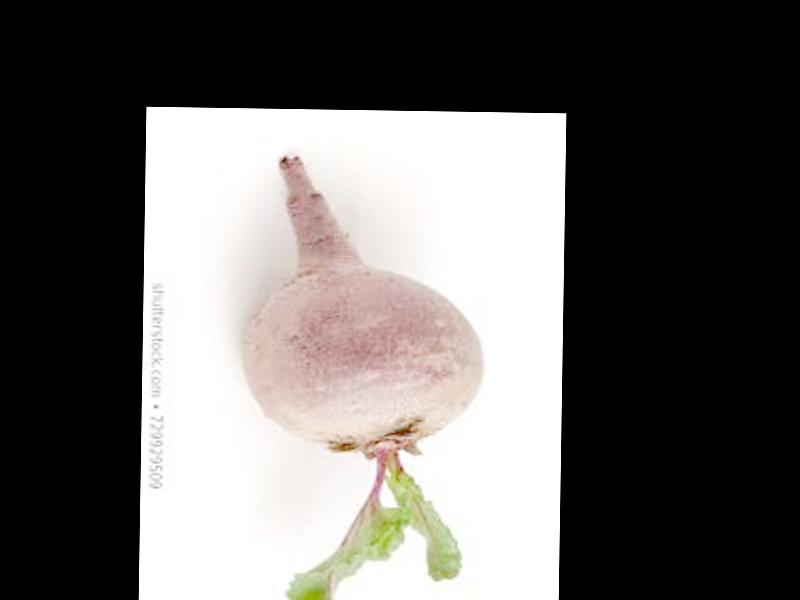Beet: (239, 158, 485, 600)
